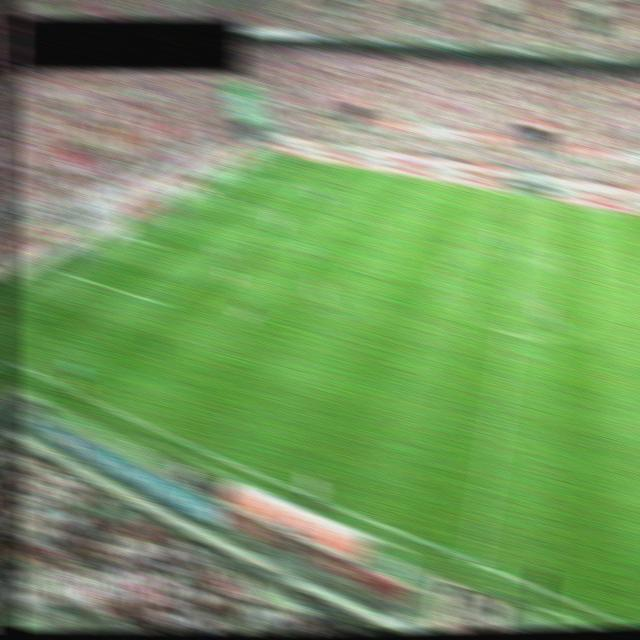bigarea_bottom_inner: (150, 295, 171, 310)
bigarea_bottom_outter: (48, 264, 73, 279)
bigarea_top_inner: (300, 180, 321, 193)
bigarea_top_outter: (221, 166, 244, 182)
bottom_arc_area_intersection: (213, 247, 235, 260)
corner: (257, 146, 280, 163)
halfcircle_bottom: (499, 326, 520, 340)
halfcircle_top: (509, 249, 531, 263)
midline_bottom_intersection: (460, 550, 488, 573)
midline_top_intersection: (518, 191, 539, 204)
smallarea_bottom_inner: (138, 235, 162, 251)
smallarea_bottom_outter: (111, 228, 134, 244)
smallarea_top_inner: (211, 190, 234, 206)
smallarea_top_outter: (186, 185, 210, 201)
top_arc_area_intersection: (266, 207, 288, 222)
